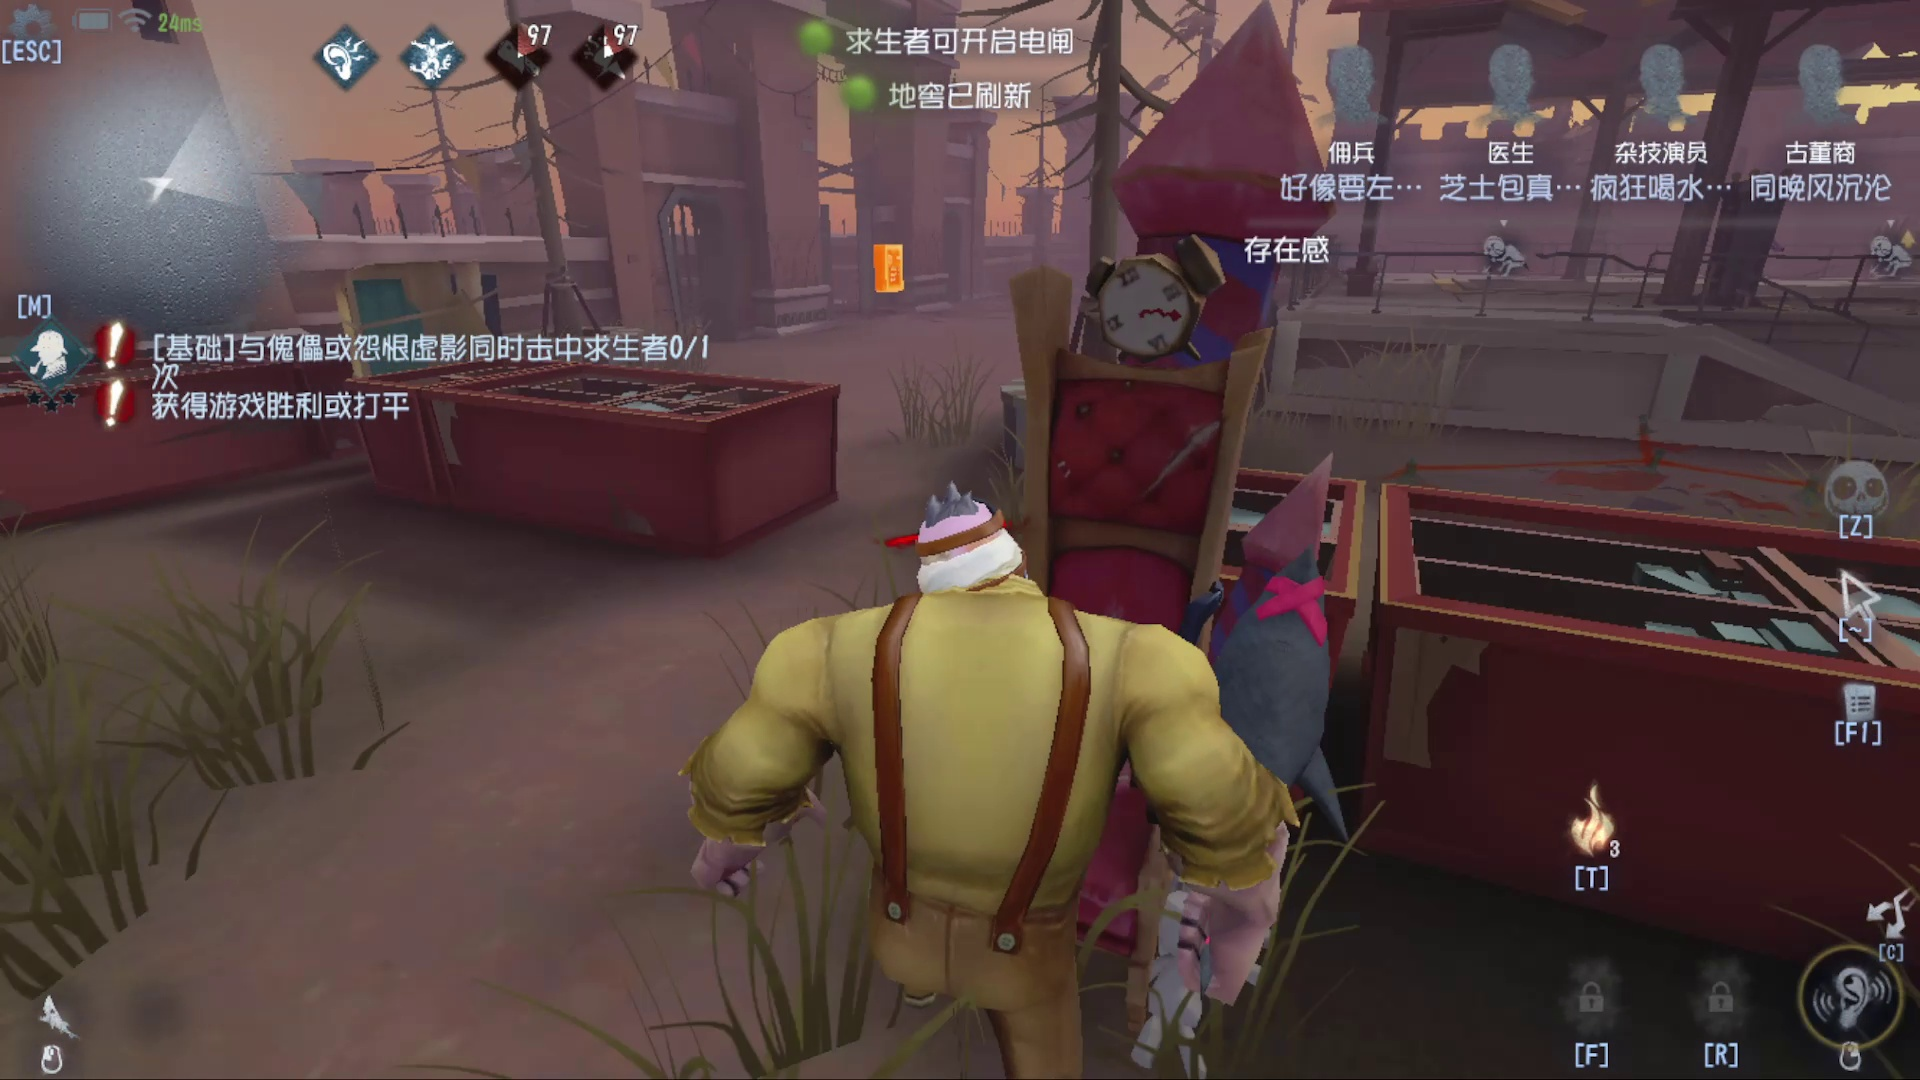技能: (1549, 766, 1629, 911)
木板: (315, 249, 512, 388)
狂欢之椅: (986, 75, 1261, 909)
脚印: (1412, 415, 1787, 516)
